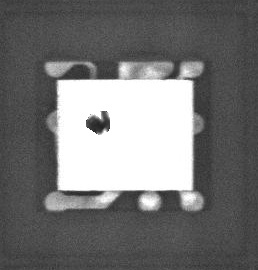DIE_INK: (82, 116, 104, 140)
